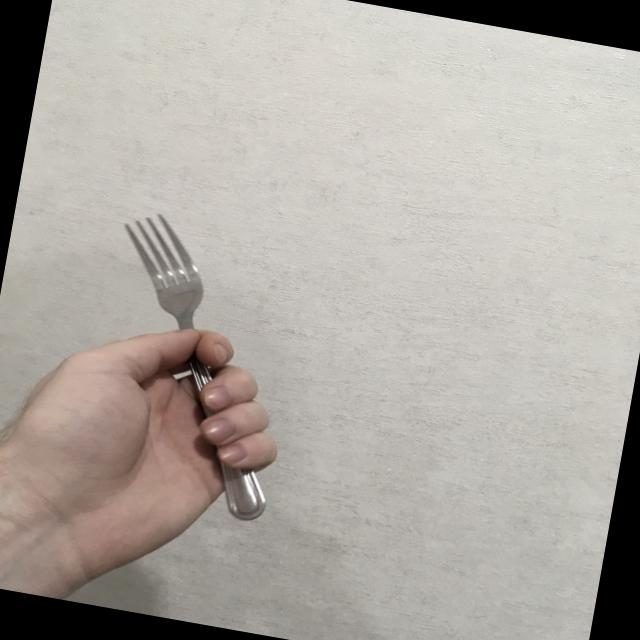fork: (76, 208, 314, 524)
